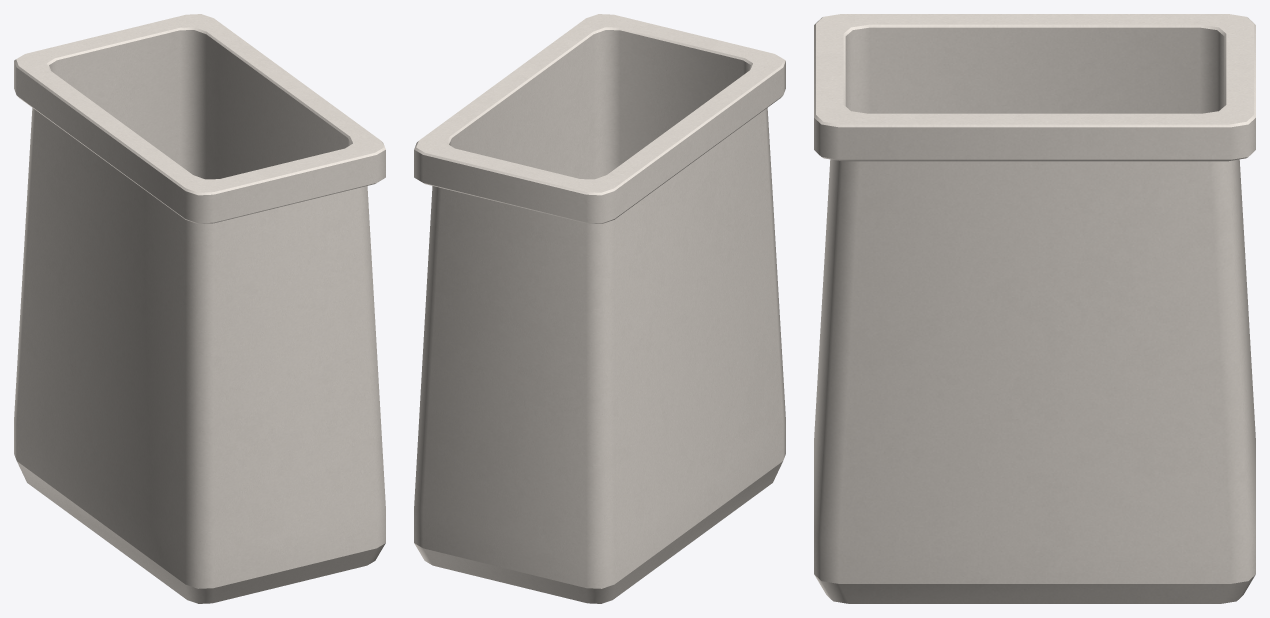
The model's file is container1.glb.
3 views of the same model, side by side, from view 1: azimuth 30°, elevation 25°; view 2: azimuth 150°, elevation 25°; view 3: azimuth 270°, elevation 25° (orthographic). The views are drawn at different scales.
Parts seen in each view (by area): view 1: container1; view 2: container1; view 3: container1.
Boxes of the visible parts, x1=… form: container1: x1=14, y1=14, x2=385, y2=603; container1: x1=414, y1=14, x2=785, y2=603; container1: x1=814, y1=14, x2=1255, y2=603.
Bounding box in the file's own units: 0.15 × 0.3009 × 0.25.
1 material, 1 textured.
